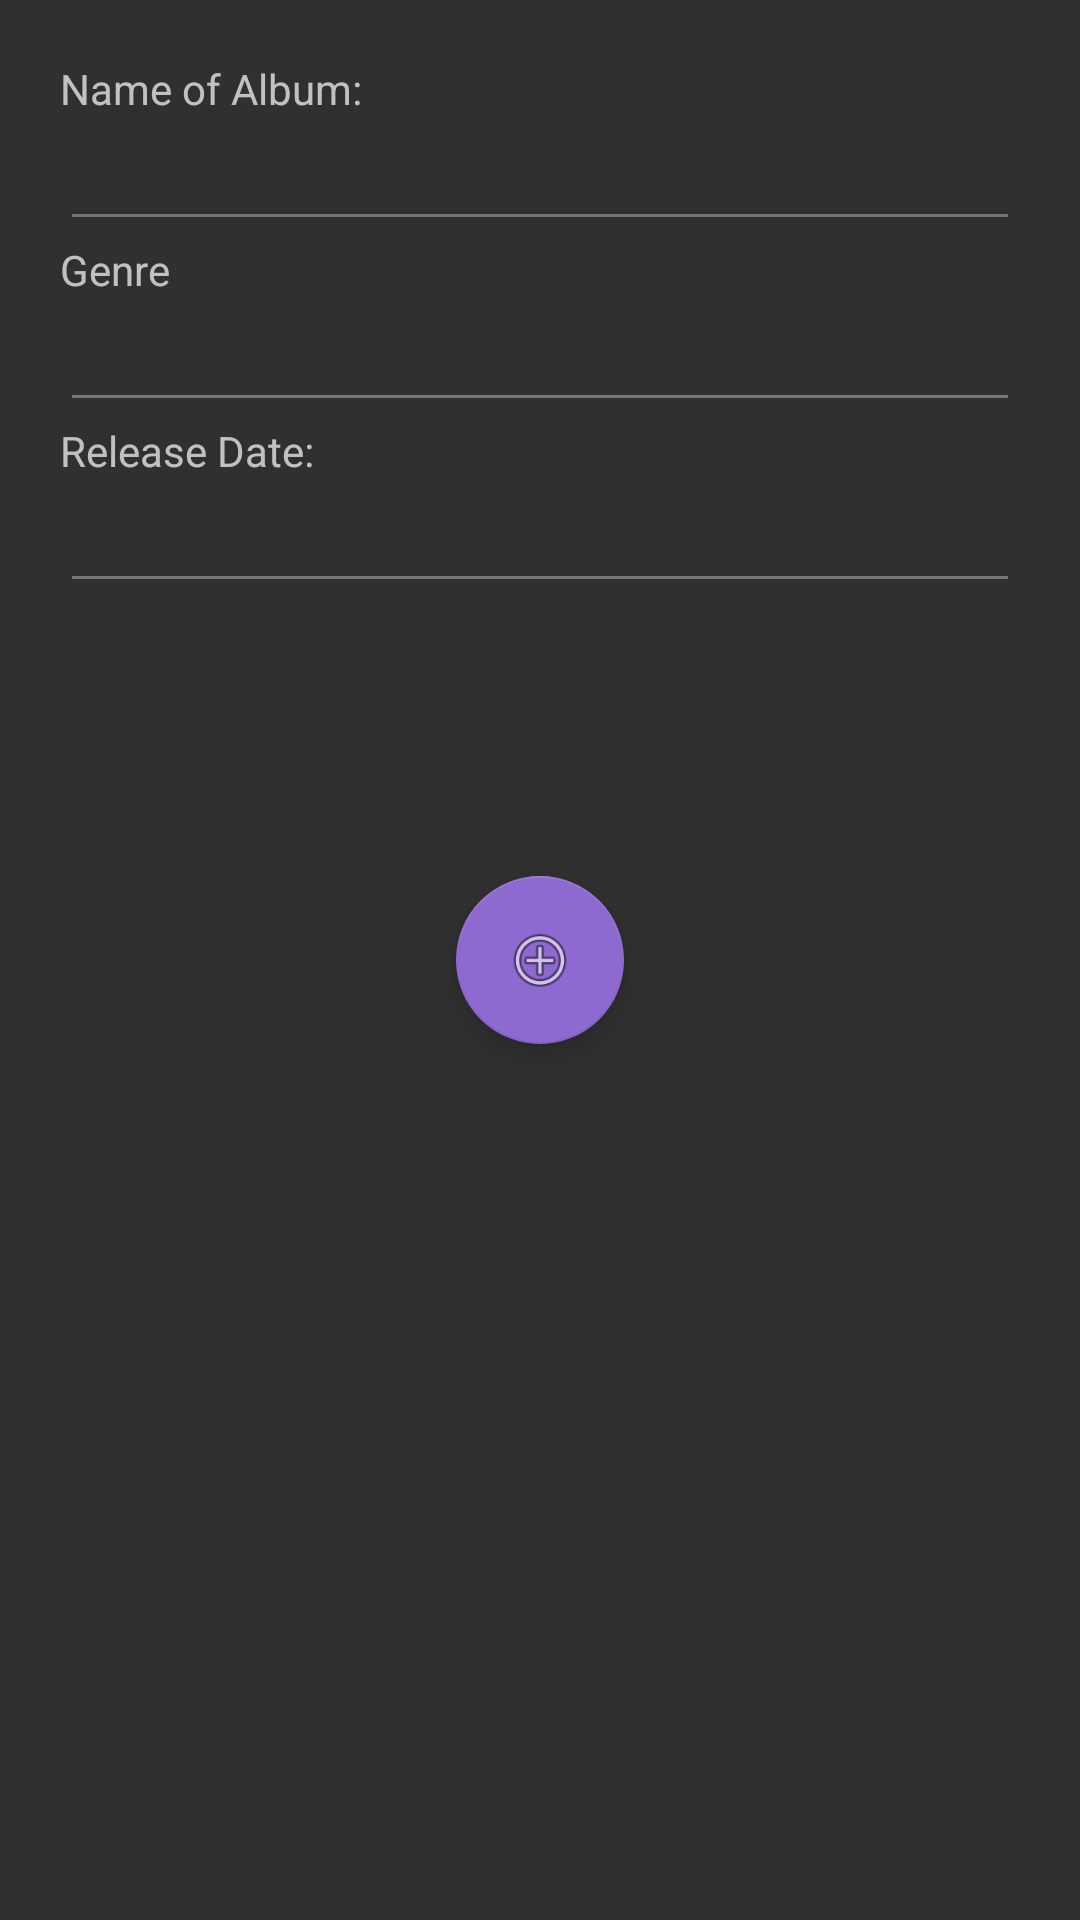

Icons on this 1080x1920 Android screen, each with the point to tap as (x=x, y=y):
add: (x=540, y=960)
